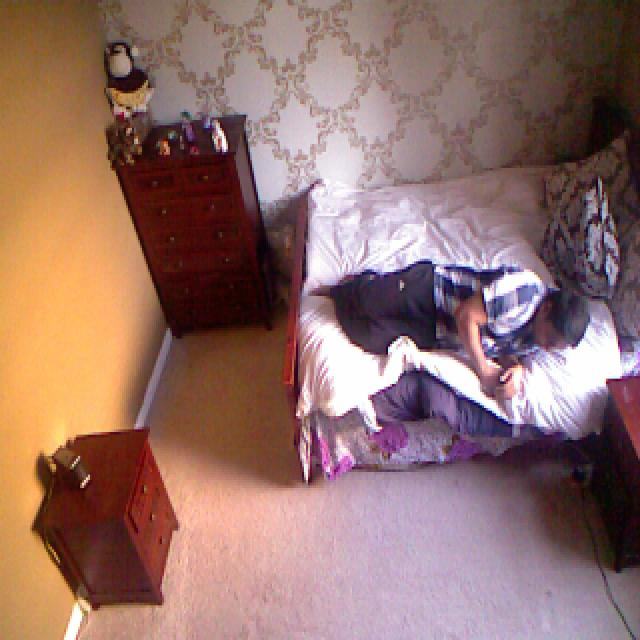lying: (315, 264, 591, 401)
